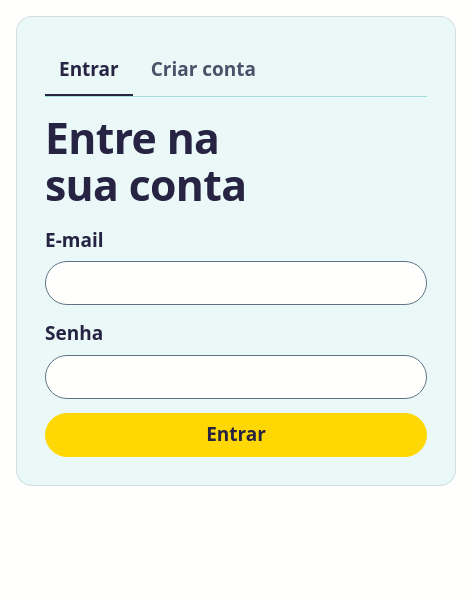
Scenario: Login (entrar) › erro inesperado do servidor (500 sem código) vira a mensagem de erro nosso
Type "voce@exemplo.com" into the field labelled "E-mail" at (236, 283), box [45,261,427,305]
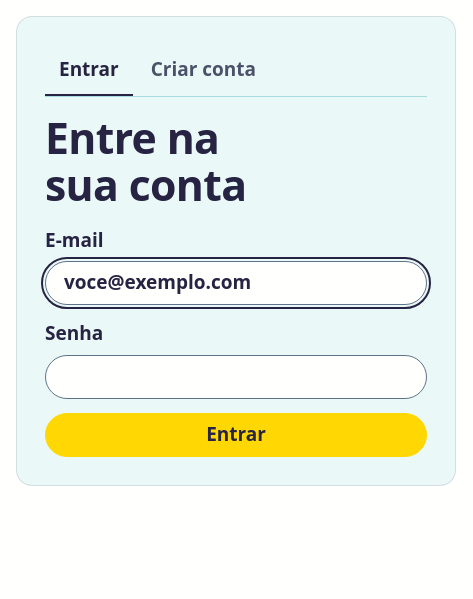
Type "senha-longa-1" into the password field labelled "Senha" at (236, 377), box [45,355,427,399]
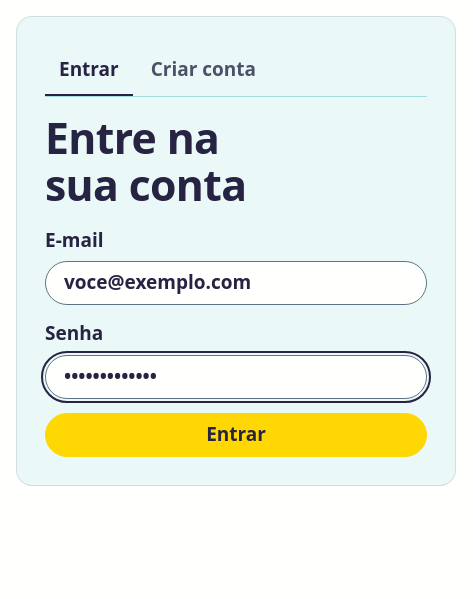
Click the button "Entrar" at (236, 435), box [45,413,427,457]
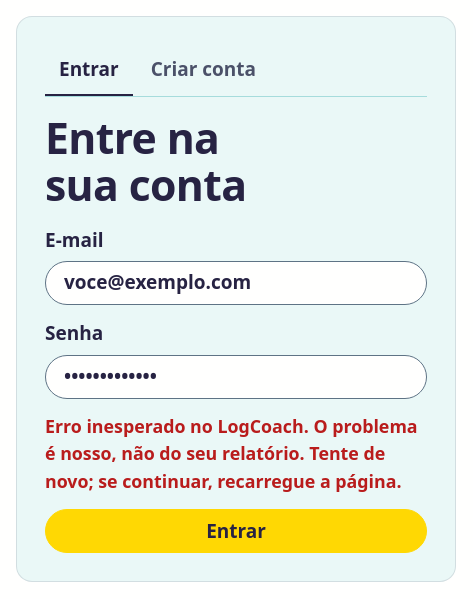
Check: the message shows "Erro inesperado no LogCoach. O problema é nosso, não do seu relatório.", box [45,414,418,493]
